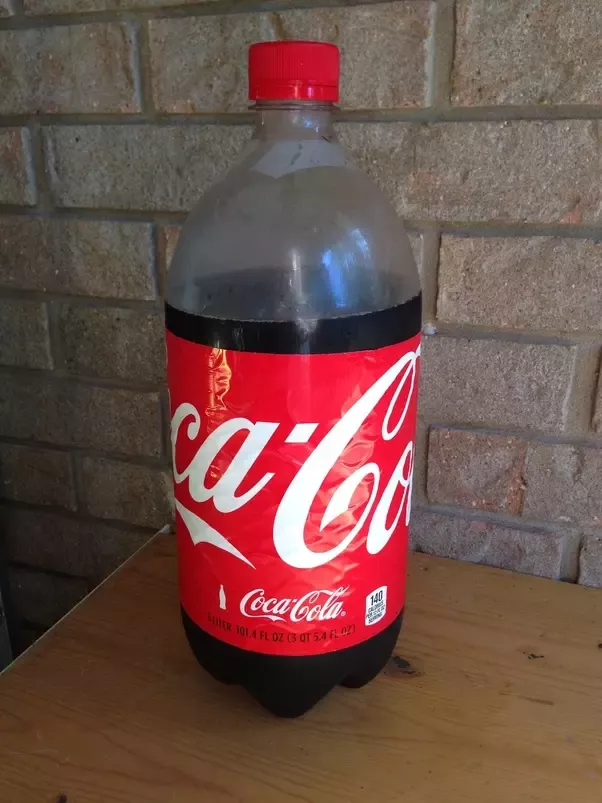Plastic bottle: (151, 21, 450, 737)
